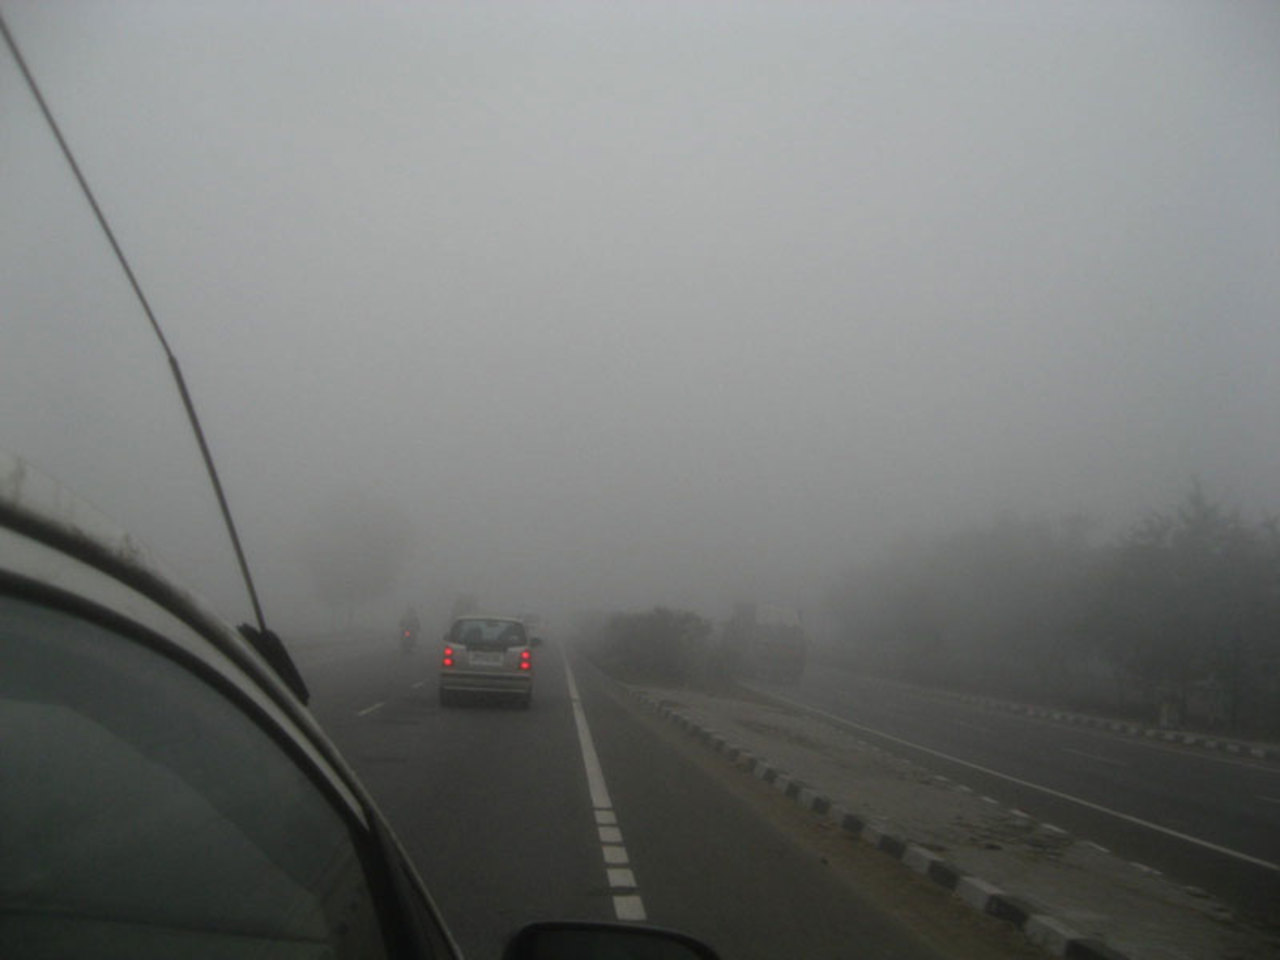car: (437, 608, 540, 711)
motorcycle: (401, 625, 416, 653)
person: (401, 609, 419, 640)
